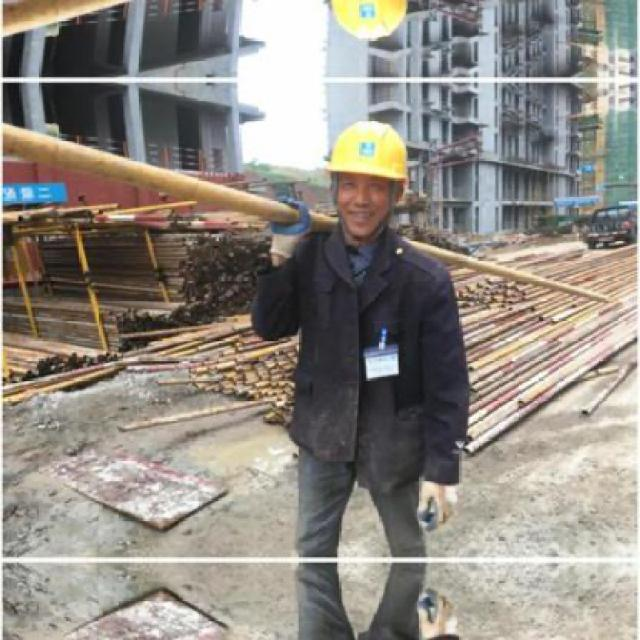con casco: (352, 105, 412, 243)
